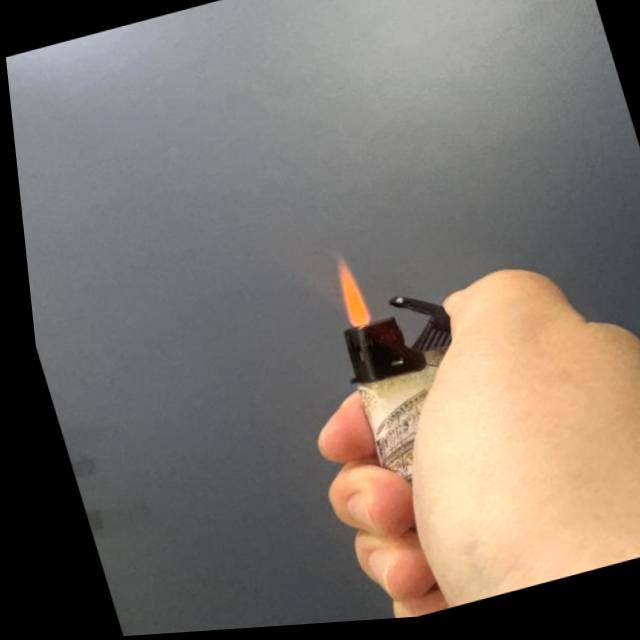fire: (315, 250, 369, 338)
